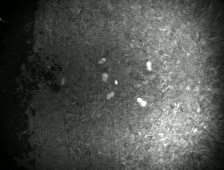corn: (144, 58, 154, 75), (134, 96, 148, 108), (104, 90, 116, 101), (95, 56, 107, 67), (100, 71, 110, 84), (59, 76, 66, 86), (112, 78, 119, 86)
